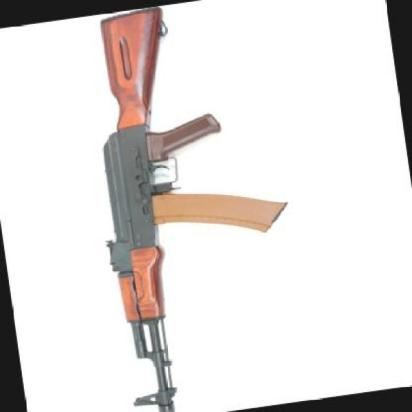Gun: (48, 0, 305, 412)
